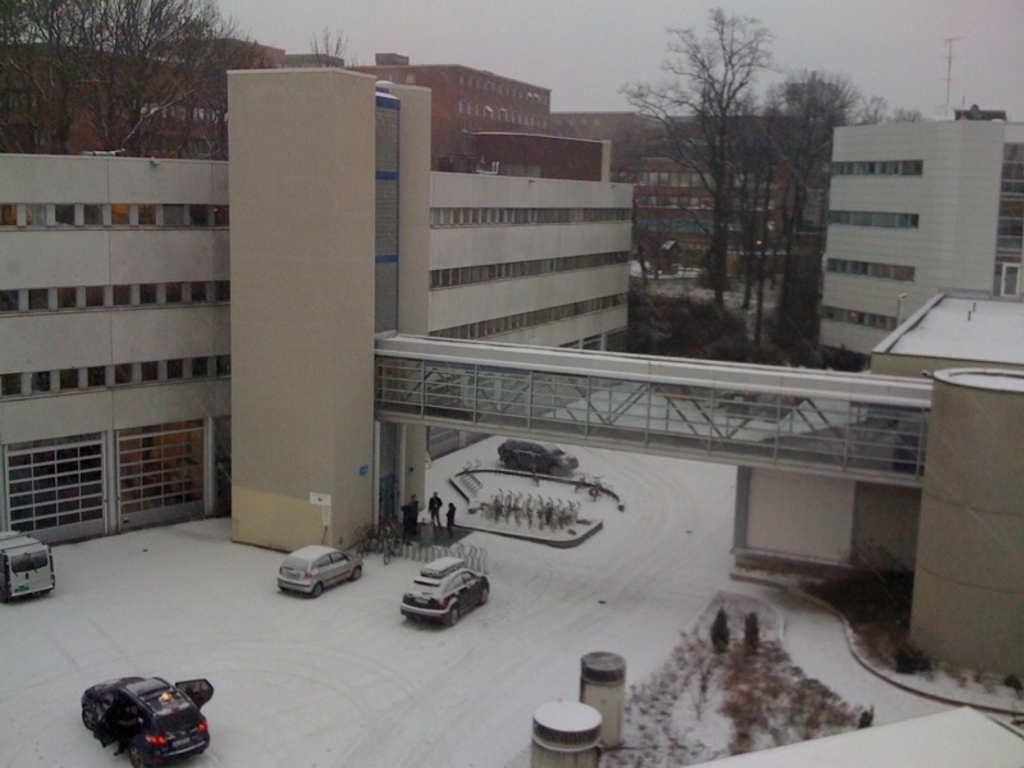Car: (70, 669, 197, 759), (399, 558, 487, 631), (273, 543, 360, 599), (501, 439, 579, 476)
